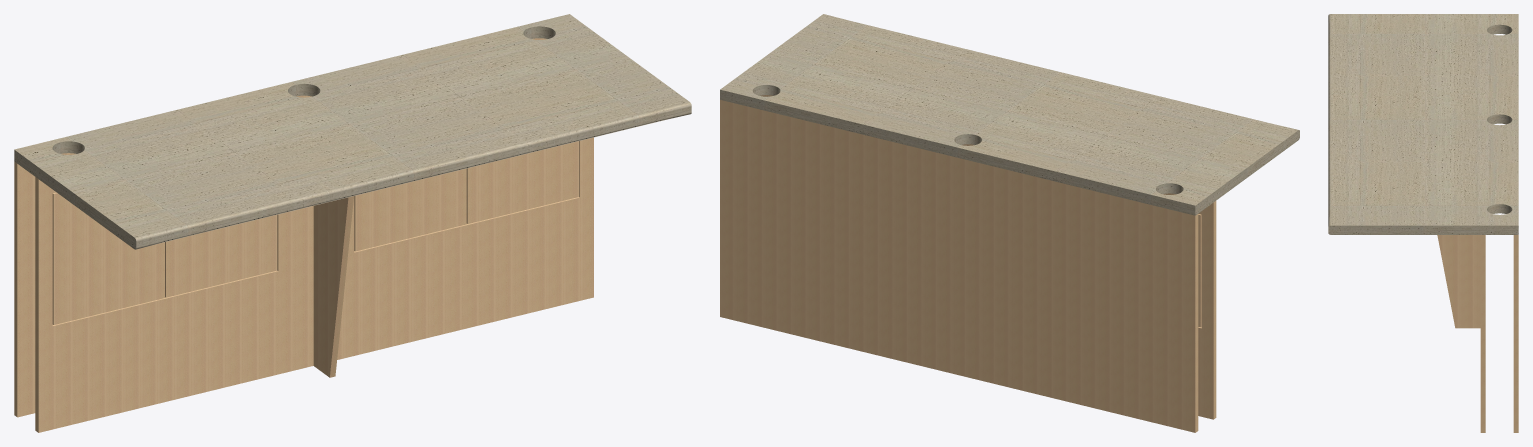
The model's file is ANCTR-05.FBX.
3 views of the same model, side by side, from view 1: azimuth 30°, elevation 25°; view 2: azimuth 150°, elevation 25°; view 3: azimuth 270°, elevation 25° (orthographic). The views are drawn at different scales.
Visible parts, largest first — view 1: CSW-Sunray_Casework_ANCTR-05_Carcass CSW-Sunray_Casework_ANC, CSW-Sunray_Casework_ANCTR-05_Countertop CSW-Sunray_Casework_, Blend [140609]; view 2: CSW-Sunray_Casework_ANCTR-05_Carcass CSW-Sunray_Casework_ANC, CSW-Sunray_Casework_ANCTR-05_Countertop CSW-Sunray_Casework_; view 3: CSW-Sunray_Casework_ANCTR-05_Countertop CSW-Sunray_Casework_, Blend [140609], CSW-Sunray_Casework_ANCTR-05_Carcass CSW-Sunray_Casework_ANC.
Part boxes in pixels (x1,y1,x2,y2): CSW-Sunray_Casework_ANCTR-05_Carcass CSW-Sunray_Casework_ANC: (14, 38, 593, 432); CSW-Sunray_Casework_ANCTR-05_Countertop CSW-Sunray_Casework_: (14, 14, 691, 249); Blend [140609]: (313, 196, 353, 377); CSW-Sunray_Casework_ANCTR-05_Carcass CSW-Sunray_Casework_ANC: (720, 95, 1216, 432); CSW-Sunray_Casework_ANCTR-05_Countertop CSW-Sunray_Casework_: (720, 14, 1299, 215); CSW-Sunray_Casework_ANCTR-05_Countertop CSW-Sunray_Casework_: (1328, 14, 1518, 234); Blend [140609]: (1437, 235, 1480, 328); CSW-Sunray_Casework_ANCTR-05_Carcass CSW-Sunray_Casework_ANC: (1480, 235, 1518, 432).
Bounding box in the file's own units: 77.56 × 35.43 × 29.53.
Materials: 3 (3 with a texture image).
